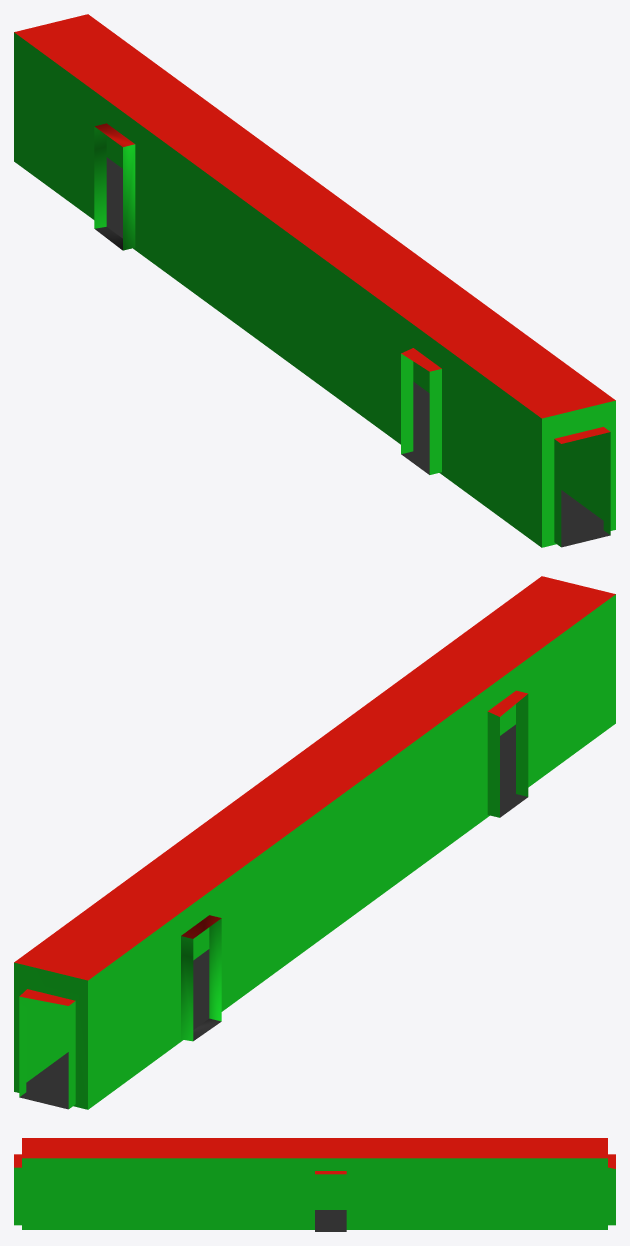
File: Nursery_MainHallMesh.gltf
3 renders of one model, top to bottom at view 1: azimuth 30°, elevation 25°; view 2: azimuth 150°, elevation 25°; view 3: azimuth 270°, elevation 25°, orthographic. The views are drawn at different scales.
Visible parts, largest first — view 1: Nursery_MainHallMesh2; view 2: Nursery_MainHallMesh2; view 3: Nursery_MainHallMesh2.
Part boxes in pixels (box(x1,y1,x2,y2)): Nursery_MainHallMesh2: box(14, 14, 615, 547); Nursery_MainHallMesh2: box(14, 576, 615, 1109); Nursery_MainHallMesh2: box(14, 1138, 615, 1231).
Size of the model in its own units: 4 by 5 by 38.
